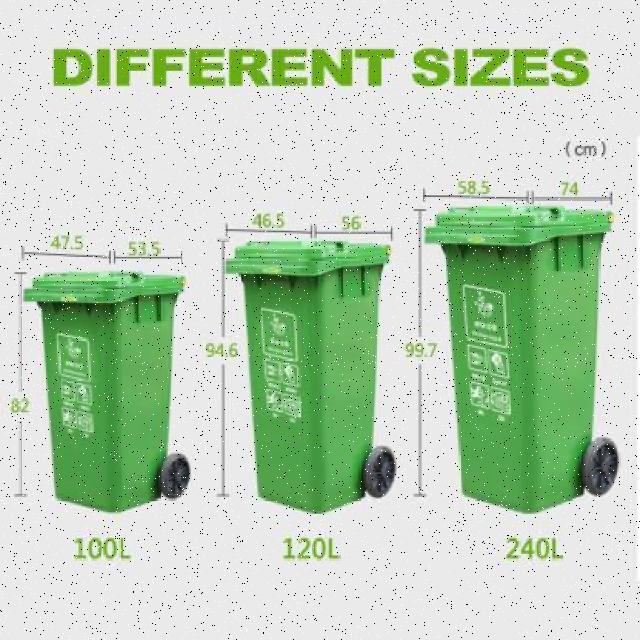garbage container: (423, 206, 628, 526)
